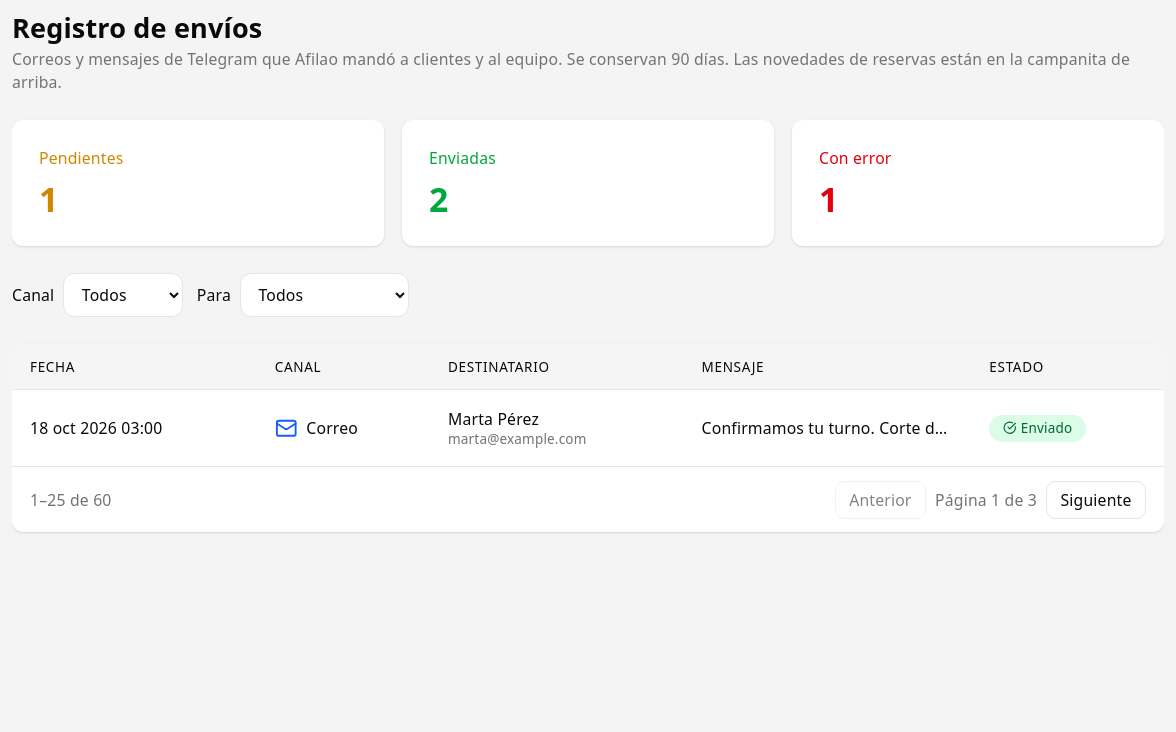
Test: Registro de envíos › pagina con Anterior y Siguiente
The width and height of the screenshot is (1176, 732).
Expected: the text "1–25 de 60" is shown, 30,489 -> 112,511
Expected: the button "Anterior" is disabled, 835,481 -> 926,519
Click the button "Siguiente" at [1096, 500], box 1046,481 -> 1146,519
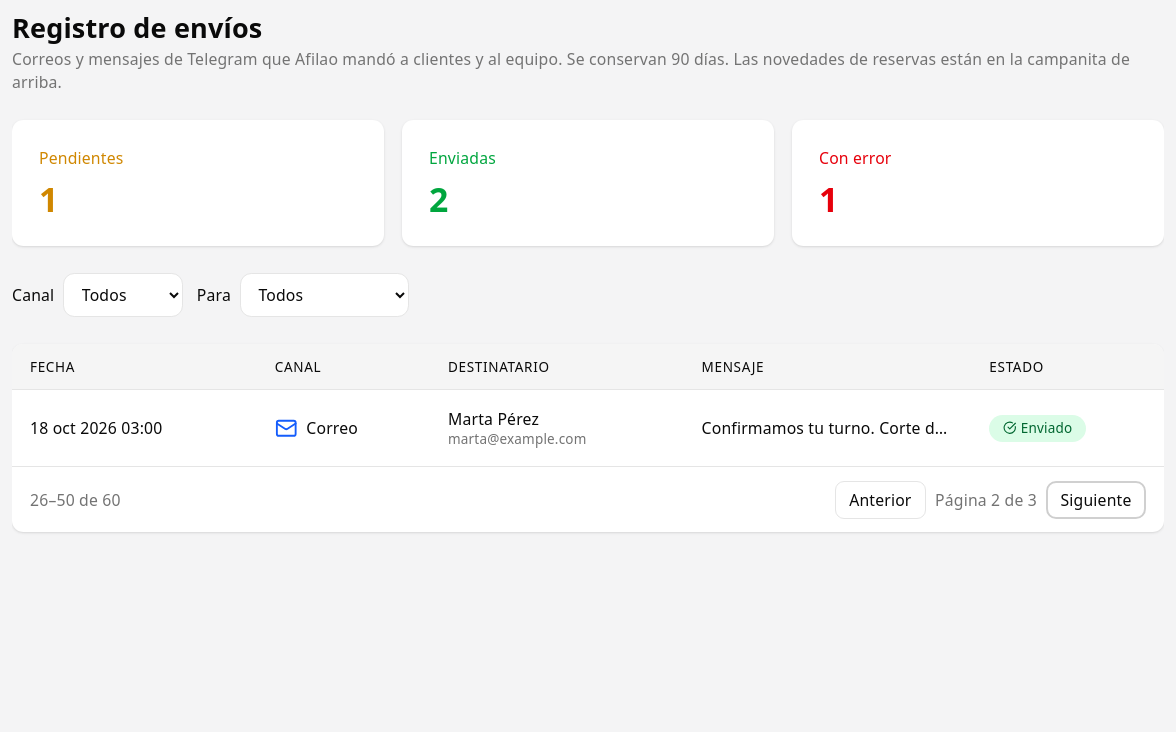
Now the text "26–50 de 60" is shown, box 30,489 -> 121,511
